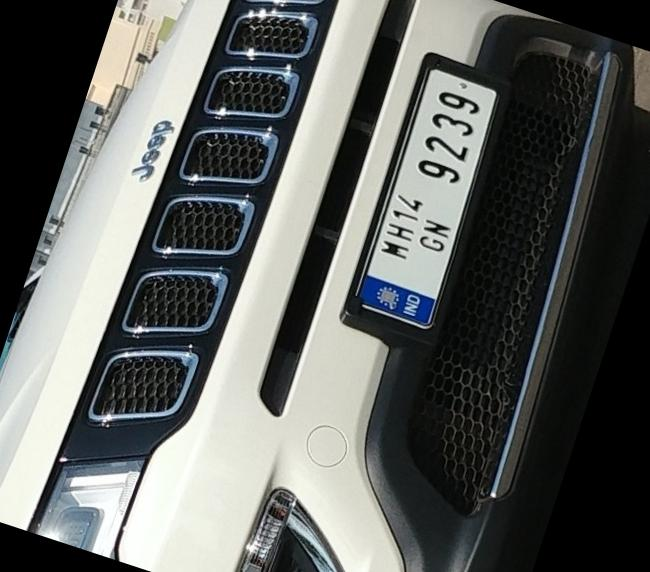plate: (327, 44, 514, 356)
